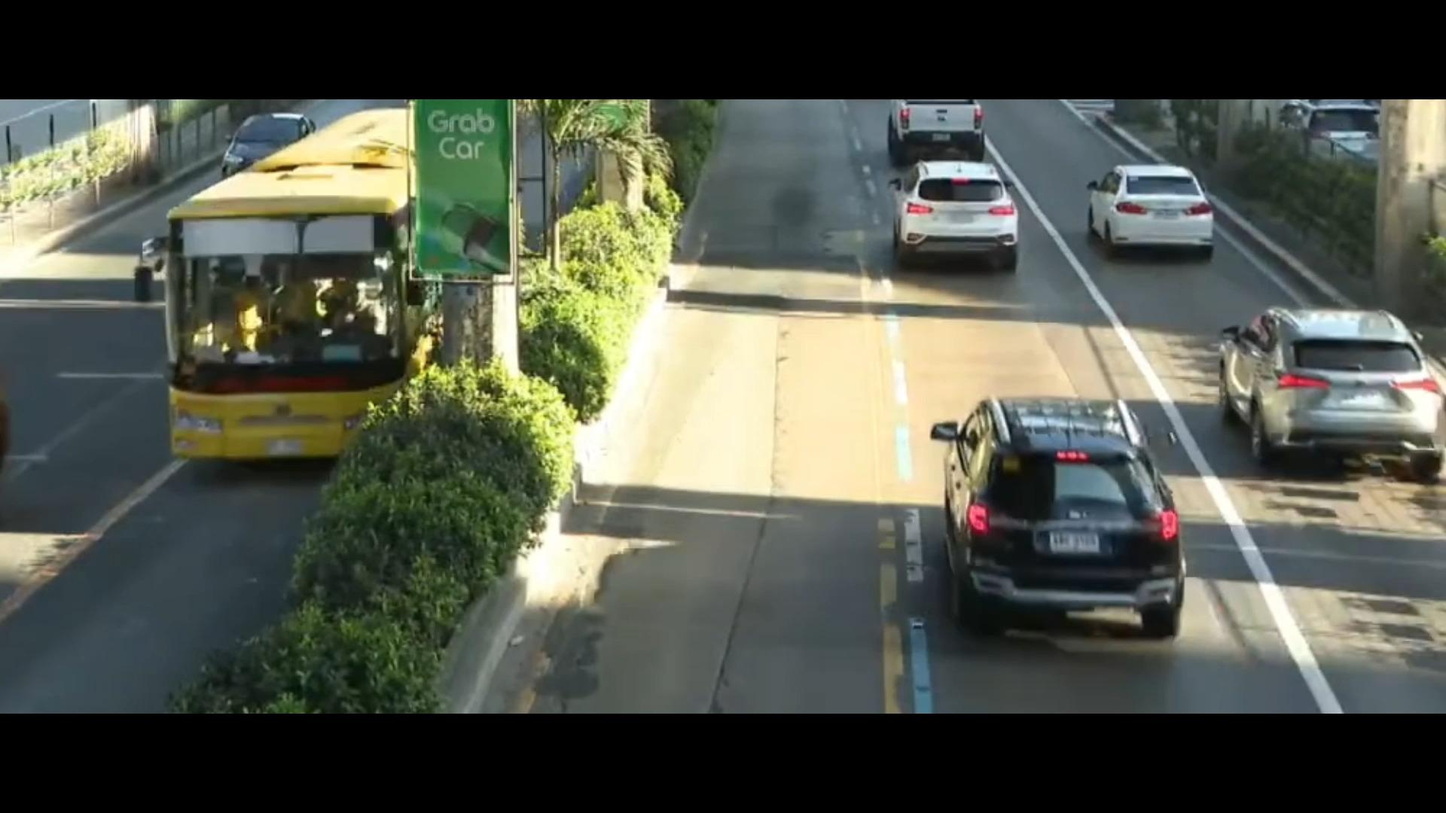Bus: (110, 101, 460, 476)
Pickup: (853, 99, 1009, 164)
SUV: (930, 375, 1203, 666), (1198, 285, 1446, 499), (828, 153, 1032, 307)
Sedan: (1049, 147, 1242, 268), (207, 106, 314, 169)
